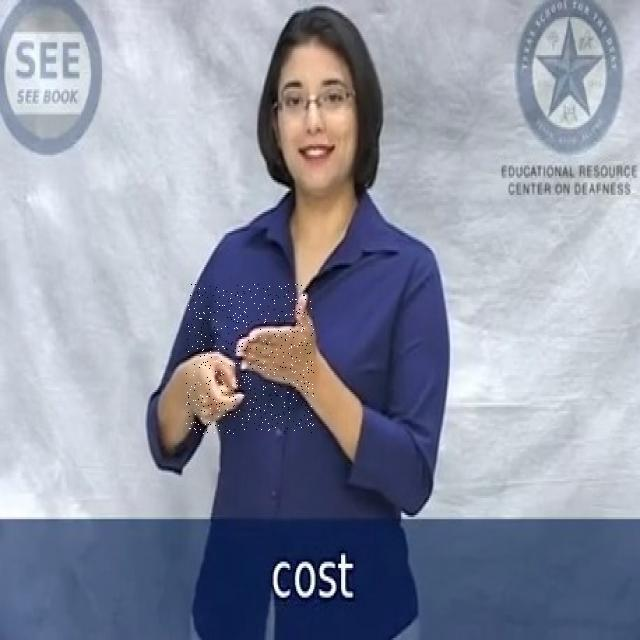cost: (186, 284, 314, 434)
